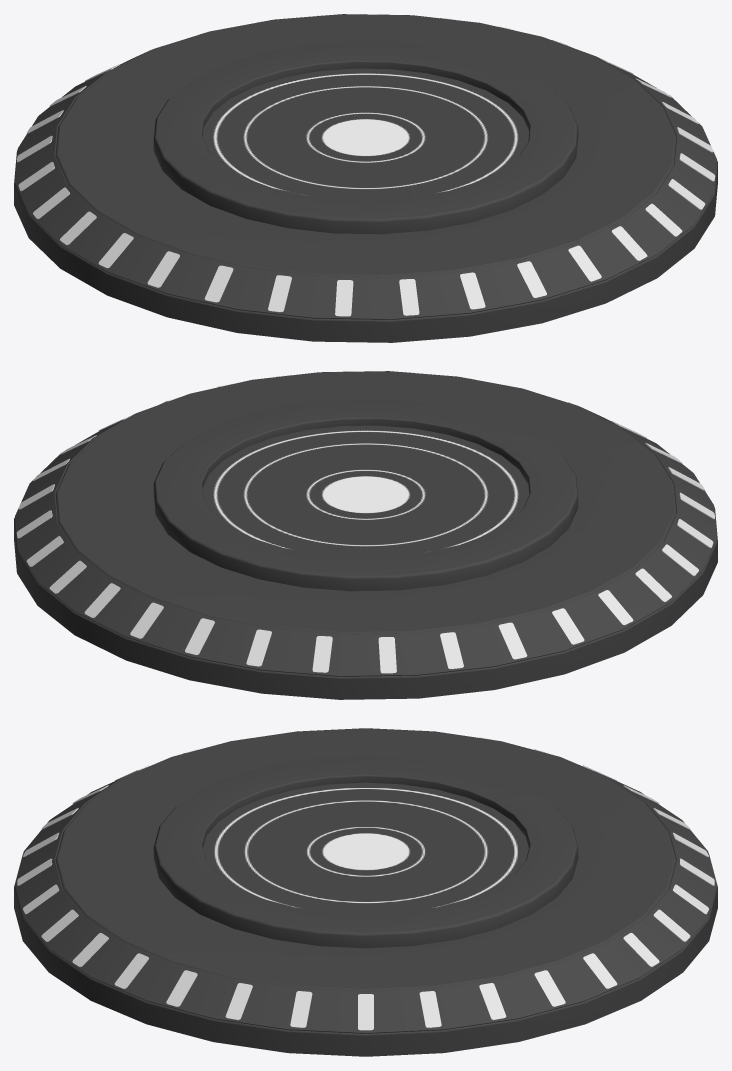
Rendered from STAGE_V1.fbx.
The picture shows the model from 3 angles, top to bottom: view 1: azimuth 30°, elevation 25°; view 2: azimuth 150°, elevation 25°; view 3: azimuth 270°, elevation 25°; orthographic projection.
Visible parts, largest first — view 1: STAGE; view 2: STAGE; view 3: STAGE.
Boxes of the visible parts, <box> form: STAGE: <box>14,14,717,342</box>; STAGE: <box>14,371,717,699</box>; STAGE: <box>14,728,717,1056</box>.
Bounding box in the file's own units: 102 × 10.25 × 102.
Materials: 1 (1 with a texture image).
